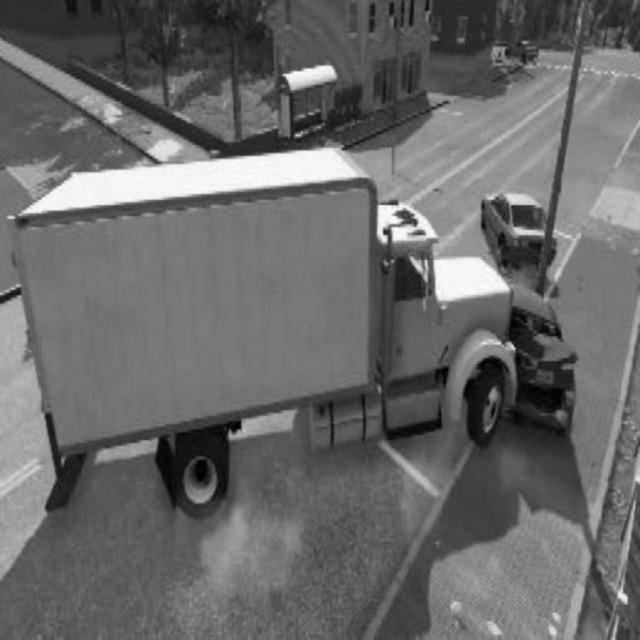accident: (43, 204, 578, 508)
vehicle: (477, 197, 558, 261)
